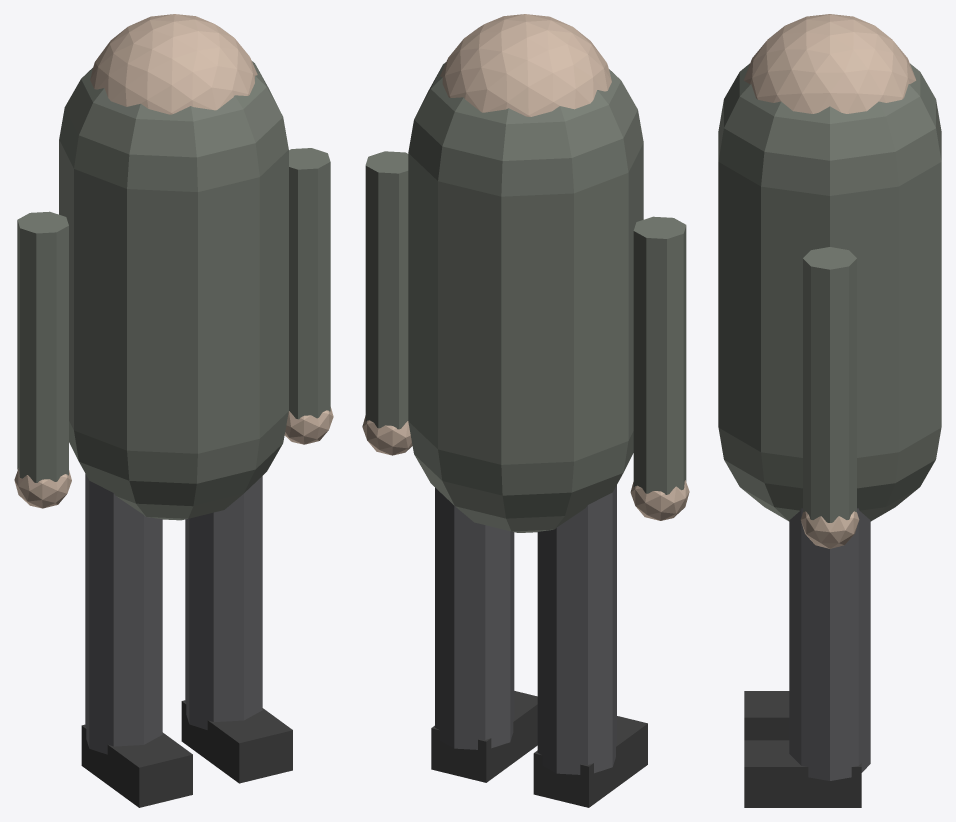
File: player.glb
3 renders of one model, left to right at view 1: azimuth 30°, elevation 25°; view 2: azimuth 150°, elevation 25°; view 3: azimuth 270°, elevation 25°, orthographic. The views are drawn at different scales.
Parts seen in each view (by area): view 1: torso, leg_L, leg_R, arm_L, head, arm_R, foot_R, foot_L, hand_L, hand_R; view 2: torso, leg_L, leg_R, arm_L, head, arm_R, foot_L, foot_R, hand_L, hand_R; view 3: torso, leg_R, arm_R, head, foot_R, foot_L, hand_R.
Part boxes in pixels (x1,y1,x2,y2): torso: [59, 61, 288, 520]; leg_L: [85, 474, 162, 754]; leg_R: [185, 476, 262, 729]; arm_L: [17, 211, 68, 482]; head: [90, 14, 257, 114]; arm_R: [289, 148, 330, 419]; foot_R: [181, 700, 292, 783]; foot_L: [81, 724, 192, 807]; hand_L: [14, 468, 71, 508]; hand_R: [284, 407, 333, 444]; torso: [408, 62, 643, 532]; leg_L: [537, 485, 616, 774]; leg_R: [435, 487, 514, 749]; arm_L: [633, 216, 686, 494]; head: [440, 14, 611, 116]; arm_R: [365, 151, 408, 429]; foot_L: [533, 716, 647, 807]; foot_R: [431, 691, 537, 782]; hand_L: [630, 480, 689, 520]; hand_R: [362, 415, 412, 455]; torso: [718, 63, 941, 521]; leg_R: [789, 508, 870, 780]; arm_R: [803, 247, 856, 522]; head: [744, 14, 915, 113]; foot_R: [744, 740, 861, 807]; foot_L: [744, 691, 789, 740]; hand_R: [800, 511, 859, 548].
Bounding box in the file's own units: 0.81 × 1.83 × 0.4945.
